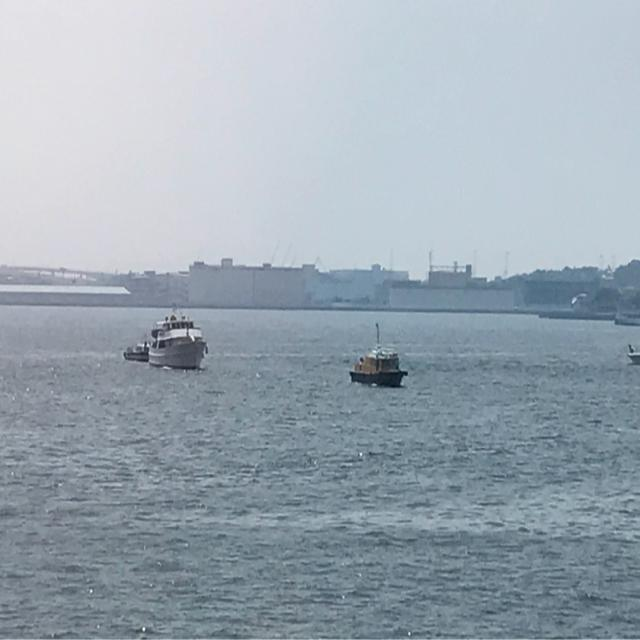houseboat: (349, 318, 409, 392), (145, 300, 209, 368)
